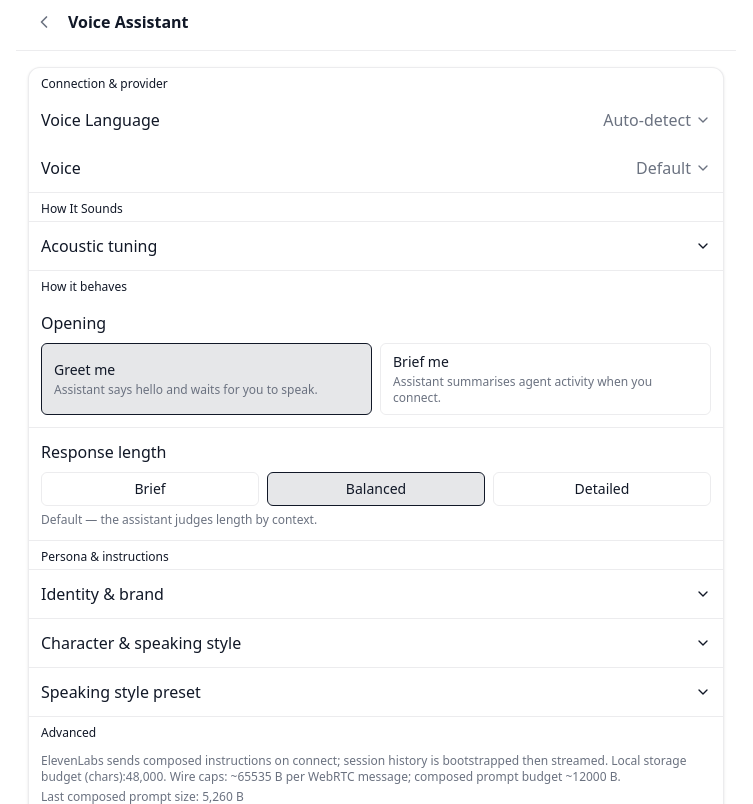
Test: SettingsPage › opens voice picker and shows "Default" option in the list
What coordinates should you click on to do the following:
click the button "Voice Default"
I would click on:
 (61, 168)
Its box is [29,144,723,192].
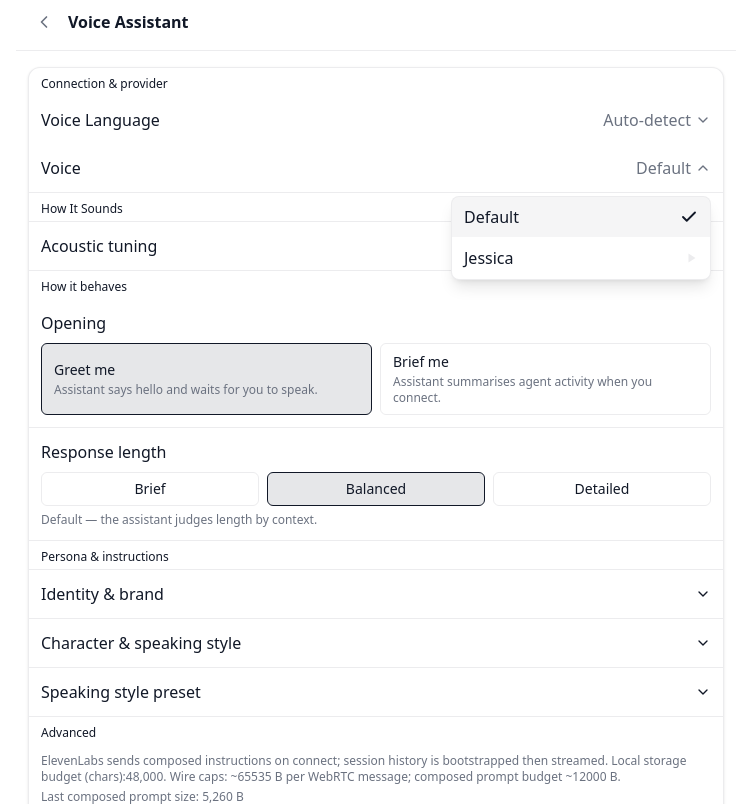
Expected: the list named "Voice" is shown, [451,196,711,280]
Expected: the list named "Voice" shows "Default", [452,197,710,237]
